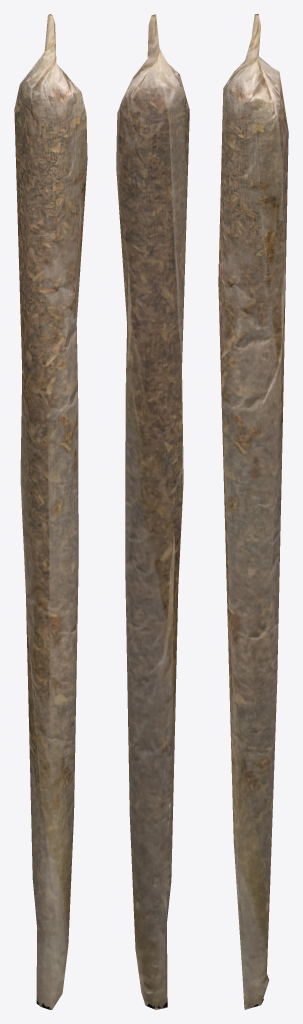
The model's file is joint-transformed.glb.
3 views of the same model, side by side, from view 1: azimuth 30°, elevation 25°; view 2: azimuth 210°, elevation 25°; view 3: azimuth 330°, elevation 25° (orthographic).
Parts seen in each view (by area): view 1: Simplygon_Proxy_5153e068-431a-4114-9fa9-ebc27b8ea276_Simplyg; view 2: Simplygon_Proxy_5153e068-431a-4114-9fa9-ebc27b8ea276_Simplyg; view 3: Simplygon_Proxy_5153e068-431a-4114-9fa9-ebc27b8ea276_Simplyg.
Part boxes in pixels (left/top/right/bottom): Simplygon_Proxy_5153e068-431a-4114-9fa9-ebc27b8ea276_Simplyg: left=14, top=14, right=87, bottom=1009; Simplygon_Proxy_5153e068-431a-4114-9fa9-ebc27b8ea276_Simplyg: left=116, top=14, right=189, bottom=1009; Simplygon_Proxy_5153e068-431a-4114-9fa9-ebc27b8ea276_Simplyg: left=218, top=14, right=288, bottom=1009.
Size of the model in its own units: 0.2386 by 3.64 by 0.2317.
1 material, 1 textured.
